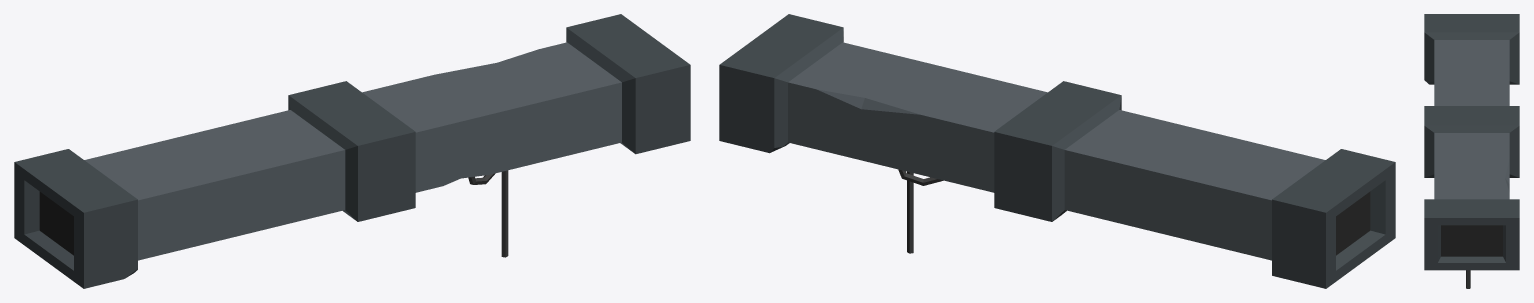
Rendered from space_SM_Prop_Detail_CeilingBox_02.gltf.
3 renders of one model, left to right at view 1: azimuth 30°, elevation 25°; view 2: azimuth 150°, elevation 25°; view 3: azimuth 270°, elevation 25°, orthographic. The views are drawn at different scales.
Parts seen in each view (by area): view 1: SM_Prop_Detail_CeilingBox_02; view 2: SM_Prop_Detail_CeilingBox_02; view 3: SM_Prop_Detail_CeilingBox_02.
Boxes of the visible parts, x1=… form: SM_Prop_Detail_CeilingBox_02: x1=14, y1=14, x2=690, y2=288; SM_Prop_Detail_CeilingBox_02: x1=719, y1=14, x2=1395, y2=288; SM_Prop_Detail_CeilingBox_02: x1=1424, y1=14, x2=1519, y2=288.
Size of the model in its own units: 5 by 1.4 by 0.9904.
Materials: 1 (1 with a texture image).
